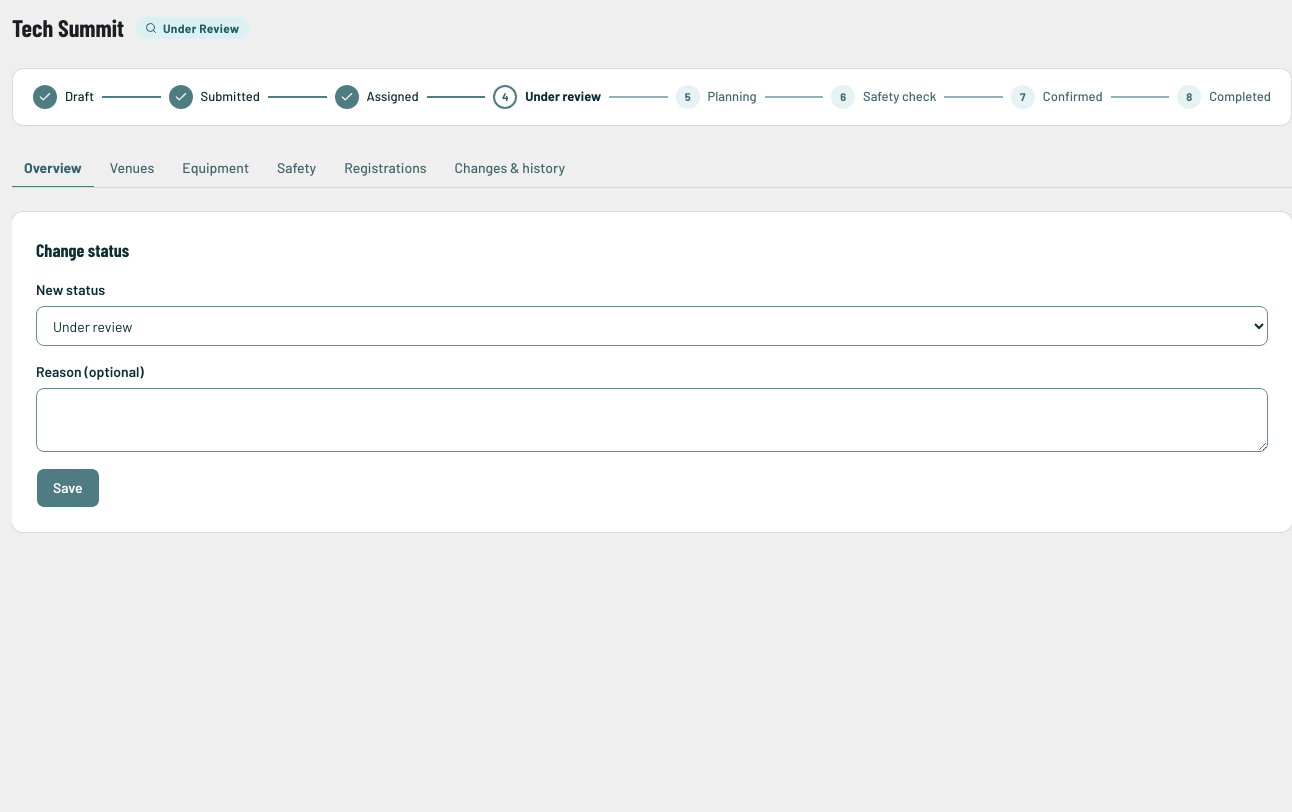
it: Event status page › shows the server's message when the change is refused
Click the button "Save" at (68, 488), box x1=36 y1=468 x2=100 y2=508
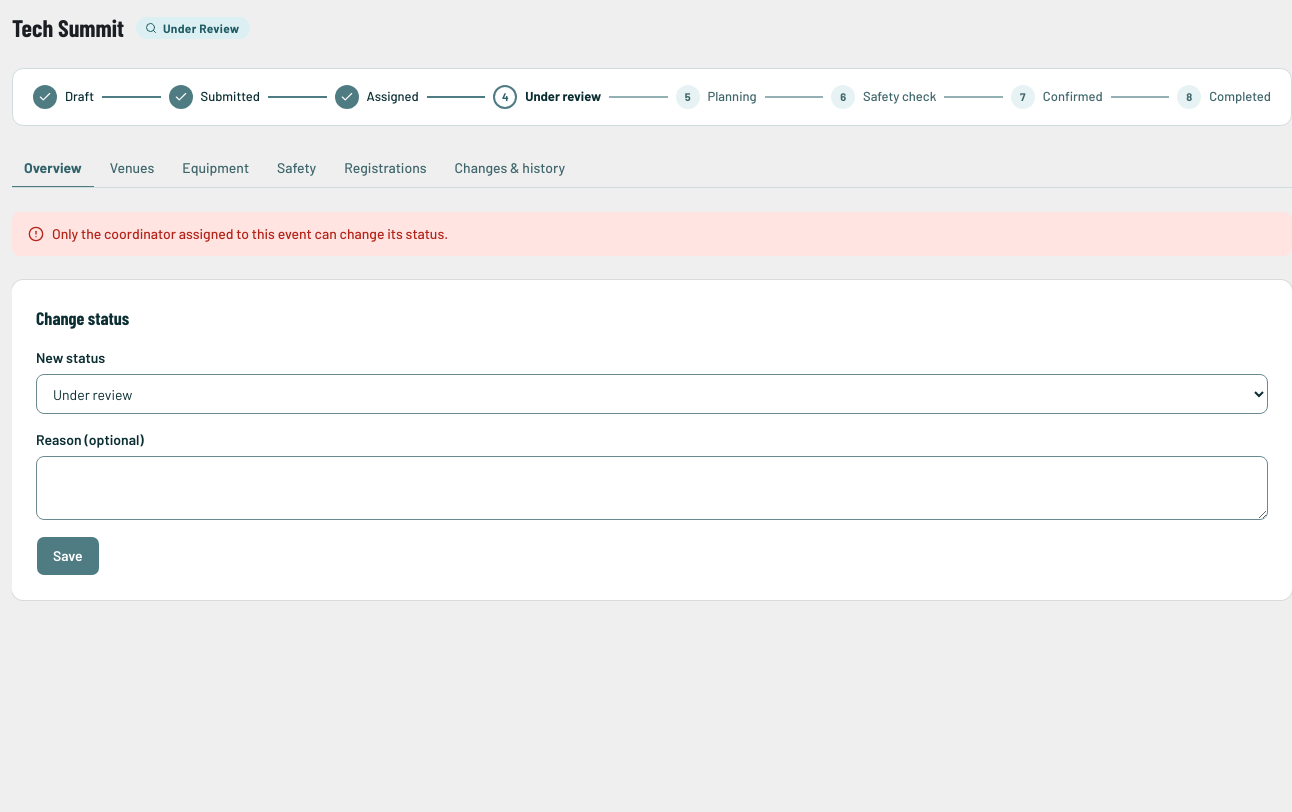
Expected: the text "Under Review" is shown, x1=136 y1=17 x2=250 y2=39
Expected: the text "Only the coordinator assigned to this event can change its status." is shown, x1=52 y1=224 x2=448 y2=244
